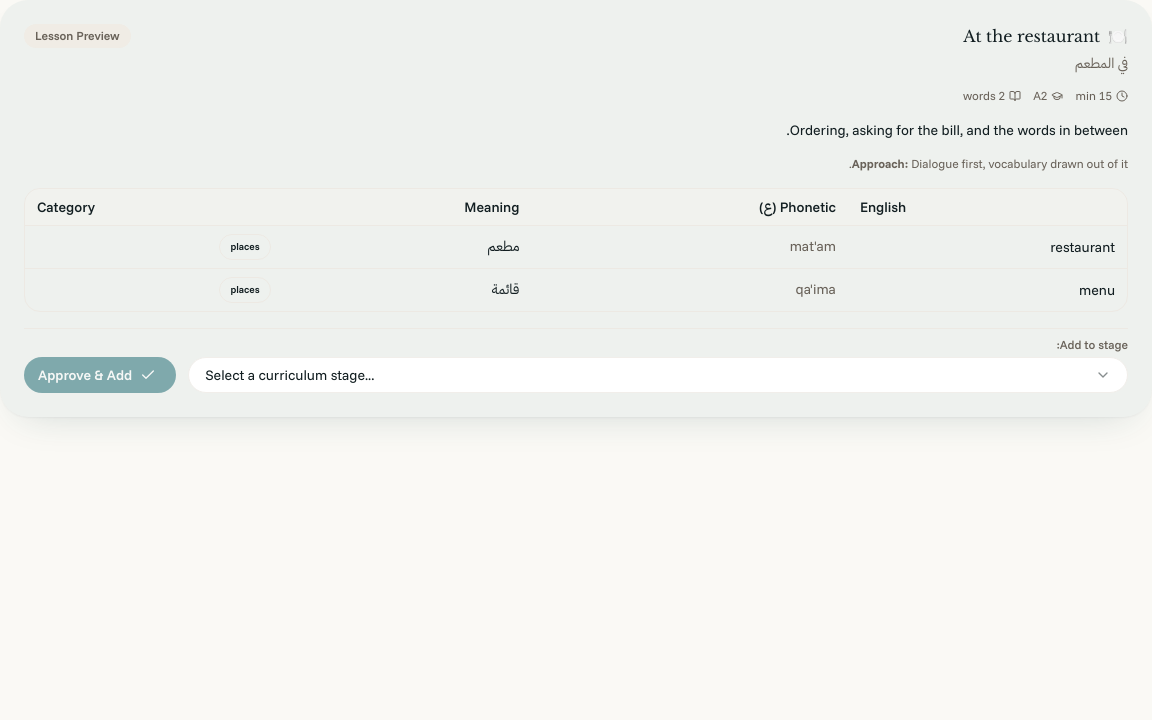
Test case: filing the lesson › offers the stages in order, with their levels
This screenshot has width=1152, height=720.
Click the dropdown: {"x": 290, "y": 375} [188,357,1128,393]
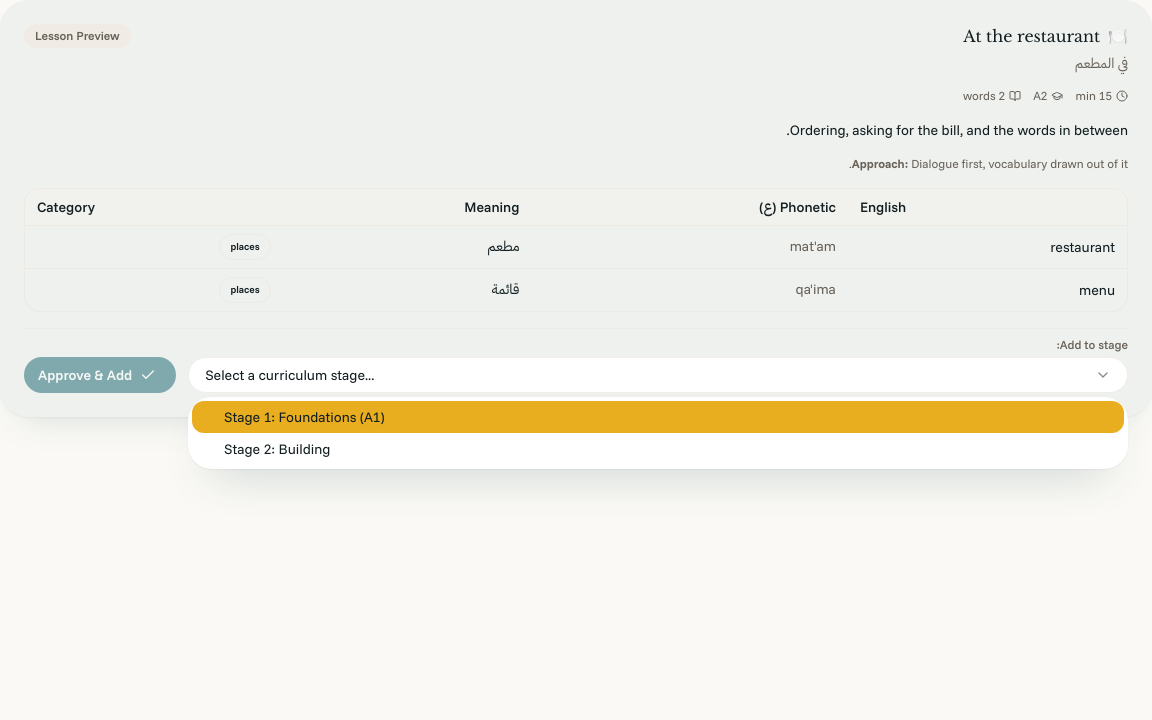
Check: the option "Stage 1: Foundations (A1)" is shown, box [192,401,1124,433]
Check: the option "Stage 2: Building" is shown, box [224,440,330,458]
